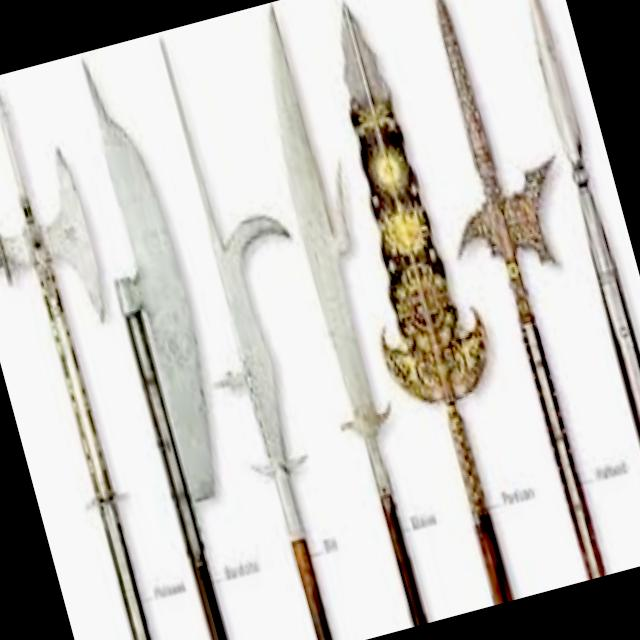spear: (132, 17, 399, 640), (292, 0, 558, 598), (36, 40, 300, 640), (378, 0, 640, 584), (221, 0, 465, 621), (0, 63, 221, 640), (495, 0, 640, 556)
